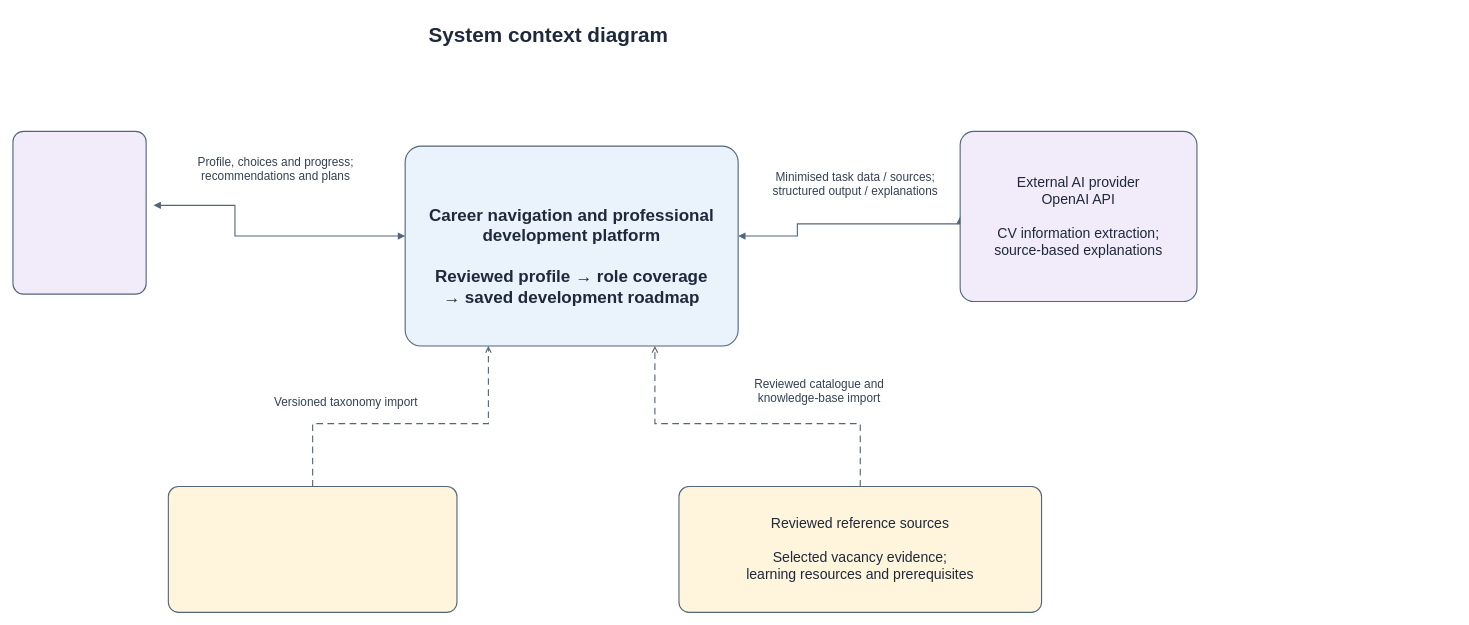
The diagram is 1469 pixels wide and 625 high, and some of its shapes have lost their labels. Here are the shapes that lost their labels. From the top down, the box of each, then its label:
(12, 130, 146, 294): Student / early-career user
(167, 486, 457, 613): ESCO taxonomy Occupation and skill identifiers, labels and aliases
